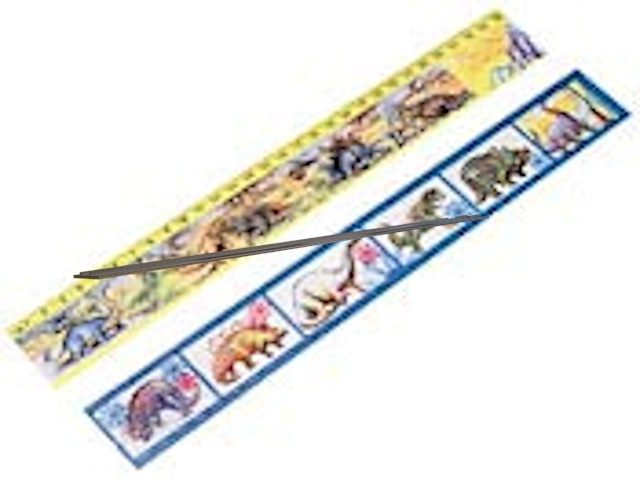ruler: (65, 209, 496, 289)
